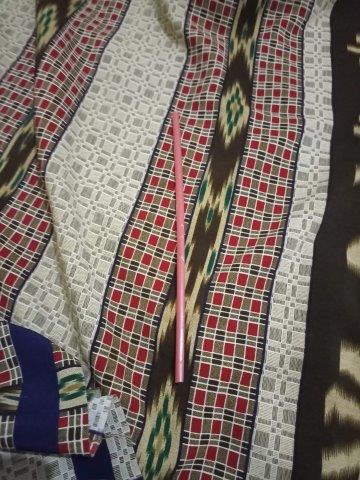sedotan: (172, 112, 184, 382)
